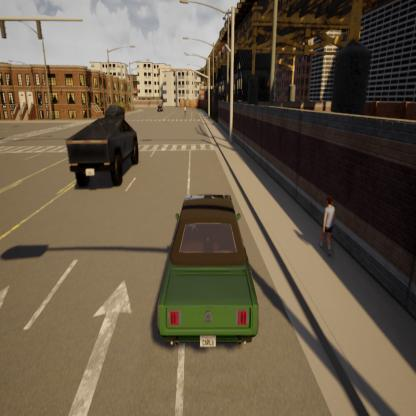Cars: (145, 165, 265, 369), (57, 87, 141, 200), (151, 87, 172, 127)
Pedestrian: (317, 171, 345, 270)
